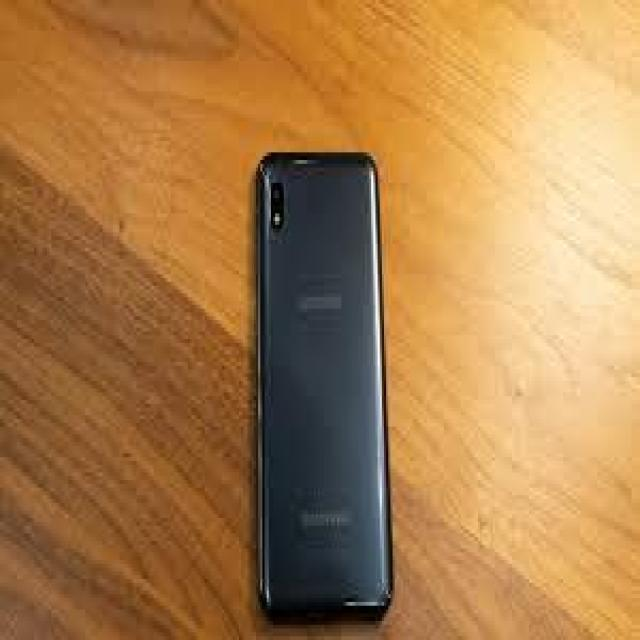Smartphone: (244, 135, 396, 634)
